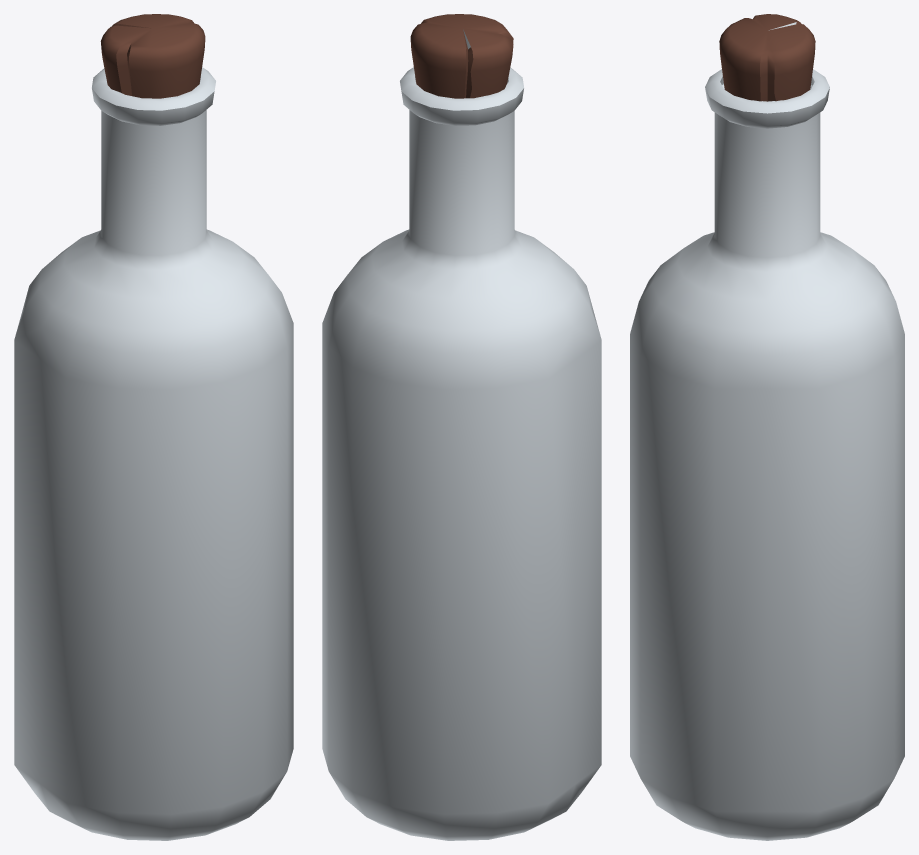
The model's file is MOD_MessageAndBottle.fbx.
3 views of the same model, side by side, from view 1: azimuth 30°, elevation 25°; view 2: azimuth 150°, elevation 25°; view 3: azimuth 270°, elevation 25° (orthographic).
Visible parts, largest first — view 1: MOD_Bottle; view 2: MOD_Bottle; view 3: MOD_Bottle.
Part boxes in pixels (left/top/right/bottom): MOD_Bottle: left=14, top=14, right=293, bottom=840; MOD_Bottle: left=322, top=14, right=601, bottom=840; MOD_Bottle: left=630, top=14, right=904, bottom=840.
Size of the model in its own units: 10.62 by 34.43 by 11.19.
